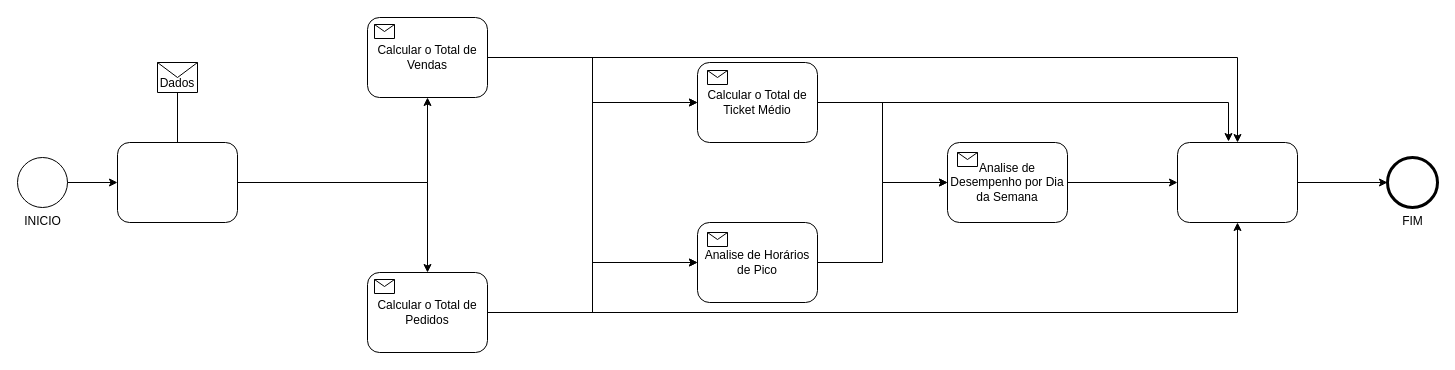
Some shapes in this 1455 by 370 pixel diagram are drawn without their labels. The shapes that lost their labels are listed below. From the top down, each one's centre as x and y in pixels, then its label:
At pixel 177 182: "Coleta de Dados de Vendas e Pedidos".
At pixel 1237 182: "Apresentar Resultados na Dashboard".
